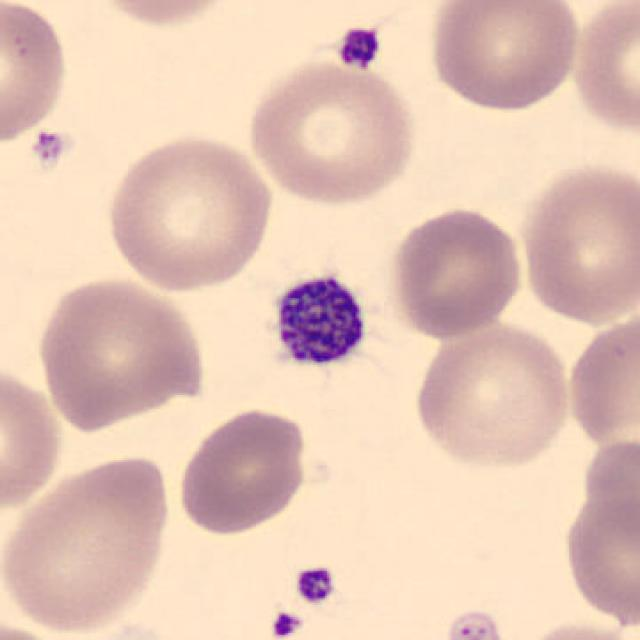Platelets: (262, 268, 374, 379), (334, 23, 384, 72), (292, 560, 340, 606), (449, 609, 506, 640), (29, 127, 70, 169), (266, 608, 306, 640)
RBC: (0, 449, 176, 636), (101, 129, 278, 296), (32, 273, 210, 432), (244, 56, 422, 208), (409, 316, 576, 474), (516, 157, 638, 328), (386, 201, 528, 340), (172, 403, 313, 538), (425, 0, 583, 115), (558, 488, 640, 630), (562, 306, 638, 449), (0, 0, 71, 152), (0, 359, 66, 516), (569, 0, 640, 141), (585, 434, 640, 577), (84, 0, 245, 32), (516, 619, 638, 640), (0, 617, 80, 640)
